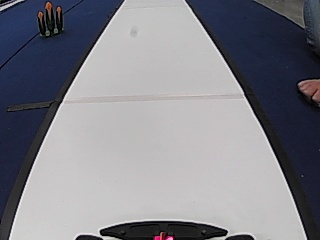corn: (34, 1, 65, 38)
